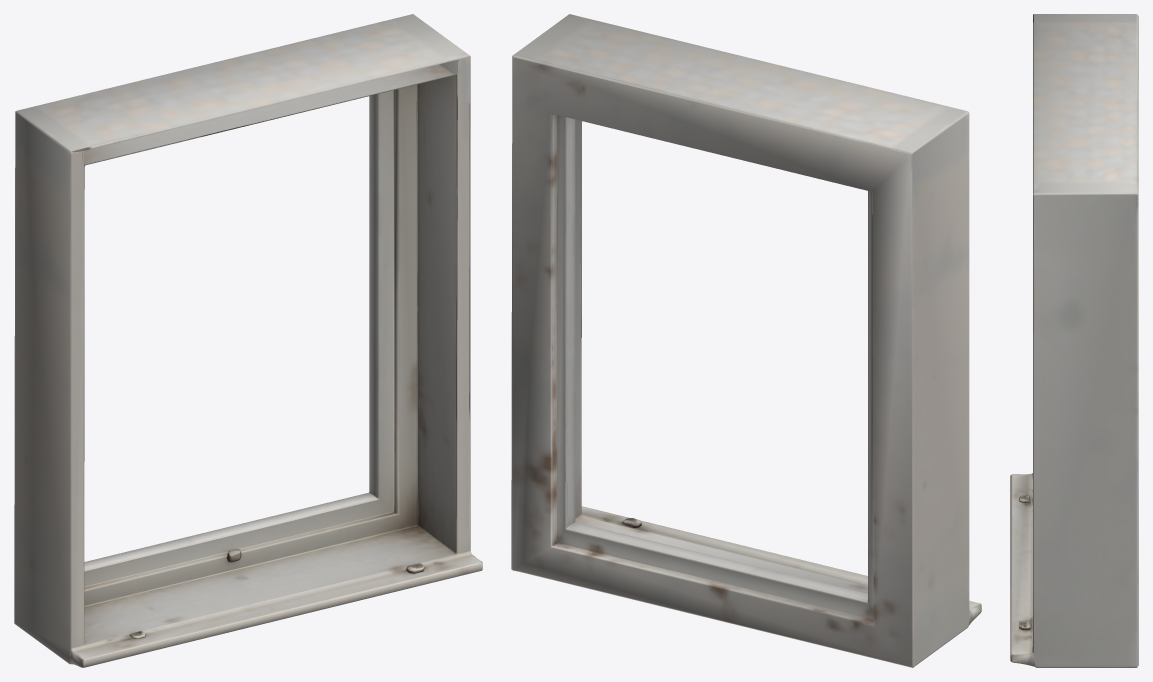
Rendered from Meshy_AI_Emerald_Window_0224124723_texture.fbx.
3 views of the same model, side by side, from view 1: azimuth 30°, elevation 25°; view 2: azimuth 150°, elevation 25°; view 3: azimuth 270°, elevation 25° (orthographic). The views are drawn at different scales.
Parts seen in each view (by area): view 1: Mesh_0; view 2: Mesh_0; view 3: Mesh_0.
Boxes of the visible parts, left/top/right/bottom form: Mesh_0: left=14, top=14, right=482, bottom=667; Mesh_0: left=511, top=14, right=981, bottom=667; Mesh_0: left=1010, top=14, right=1138, bottom=667.
Bounding box in the file's own units: 183 × 225 × 54.98.
Materials: 1 (1 with a texture image).
